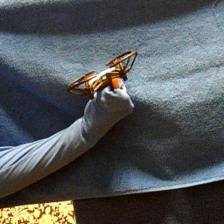drone: (66, 47, 140, 102)
